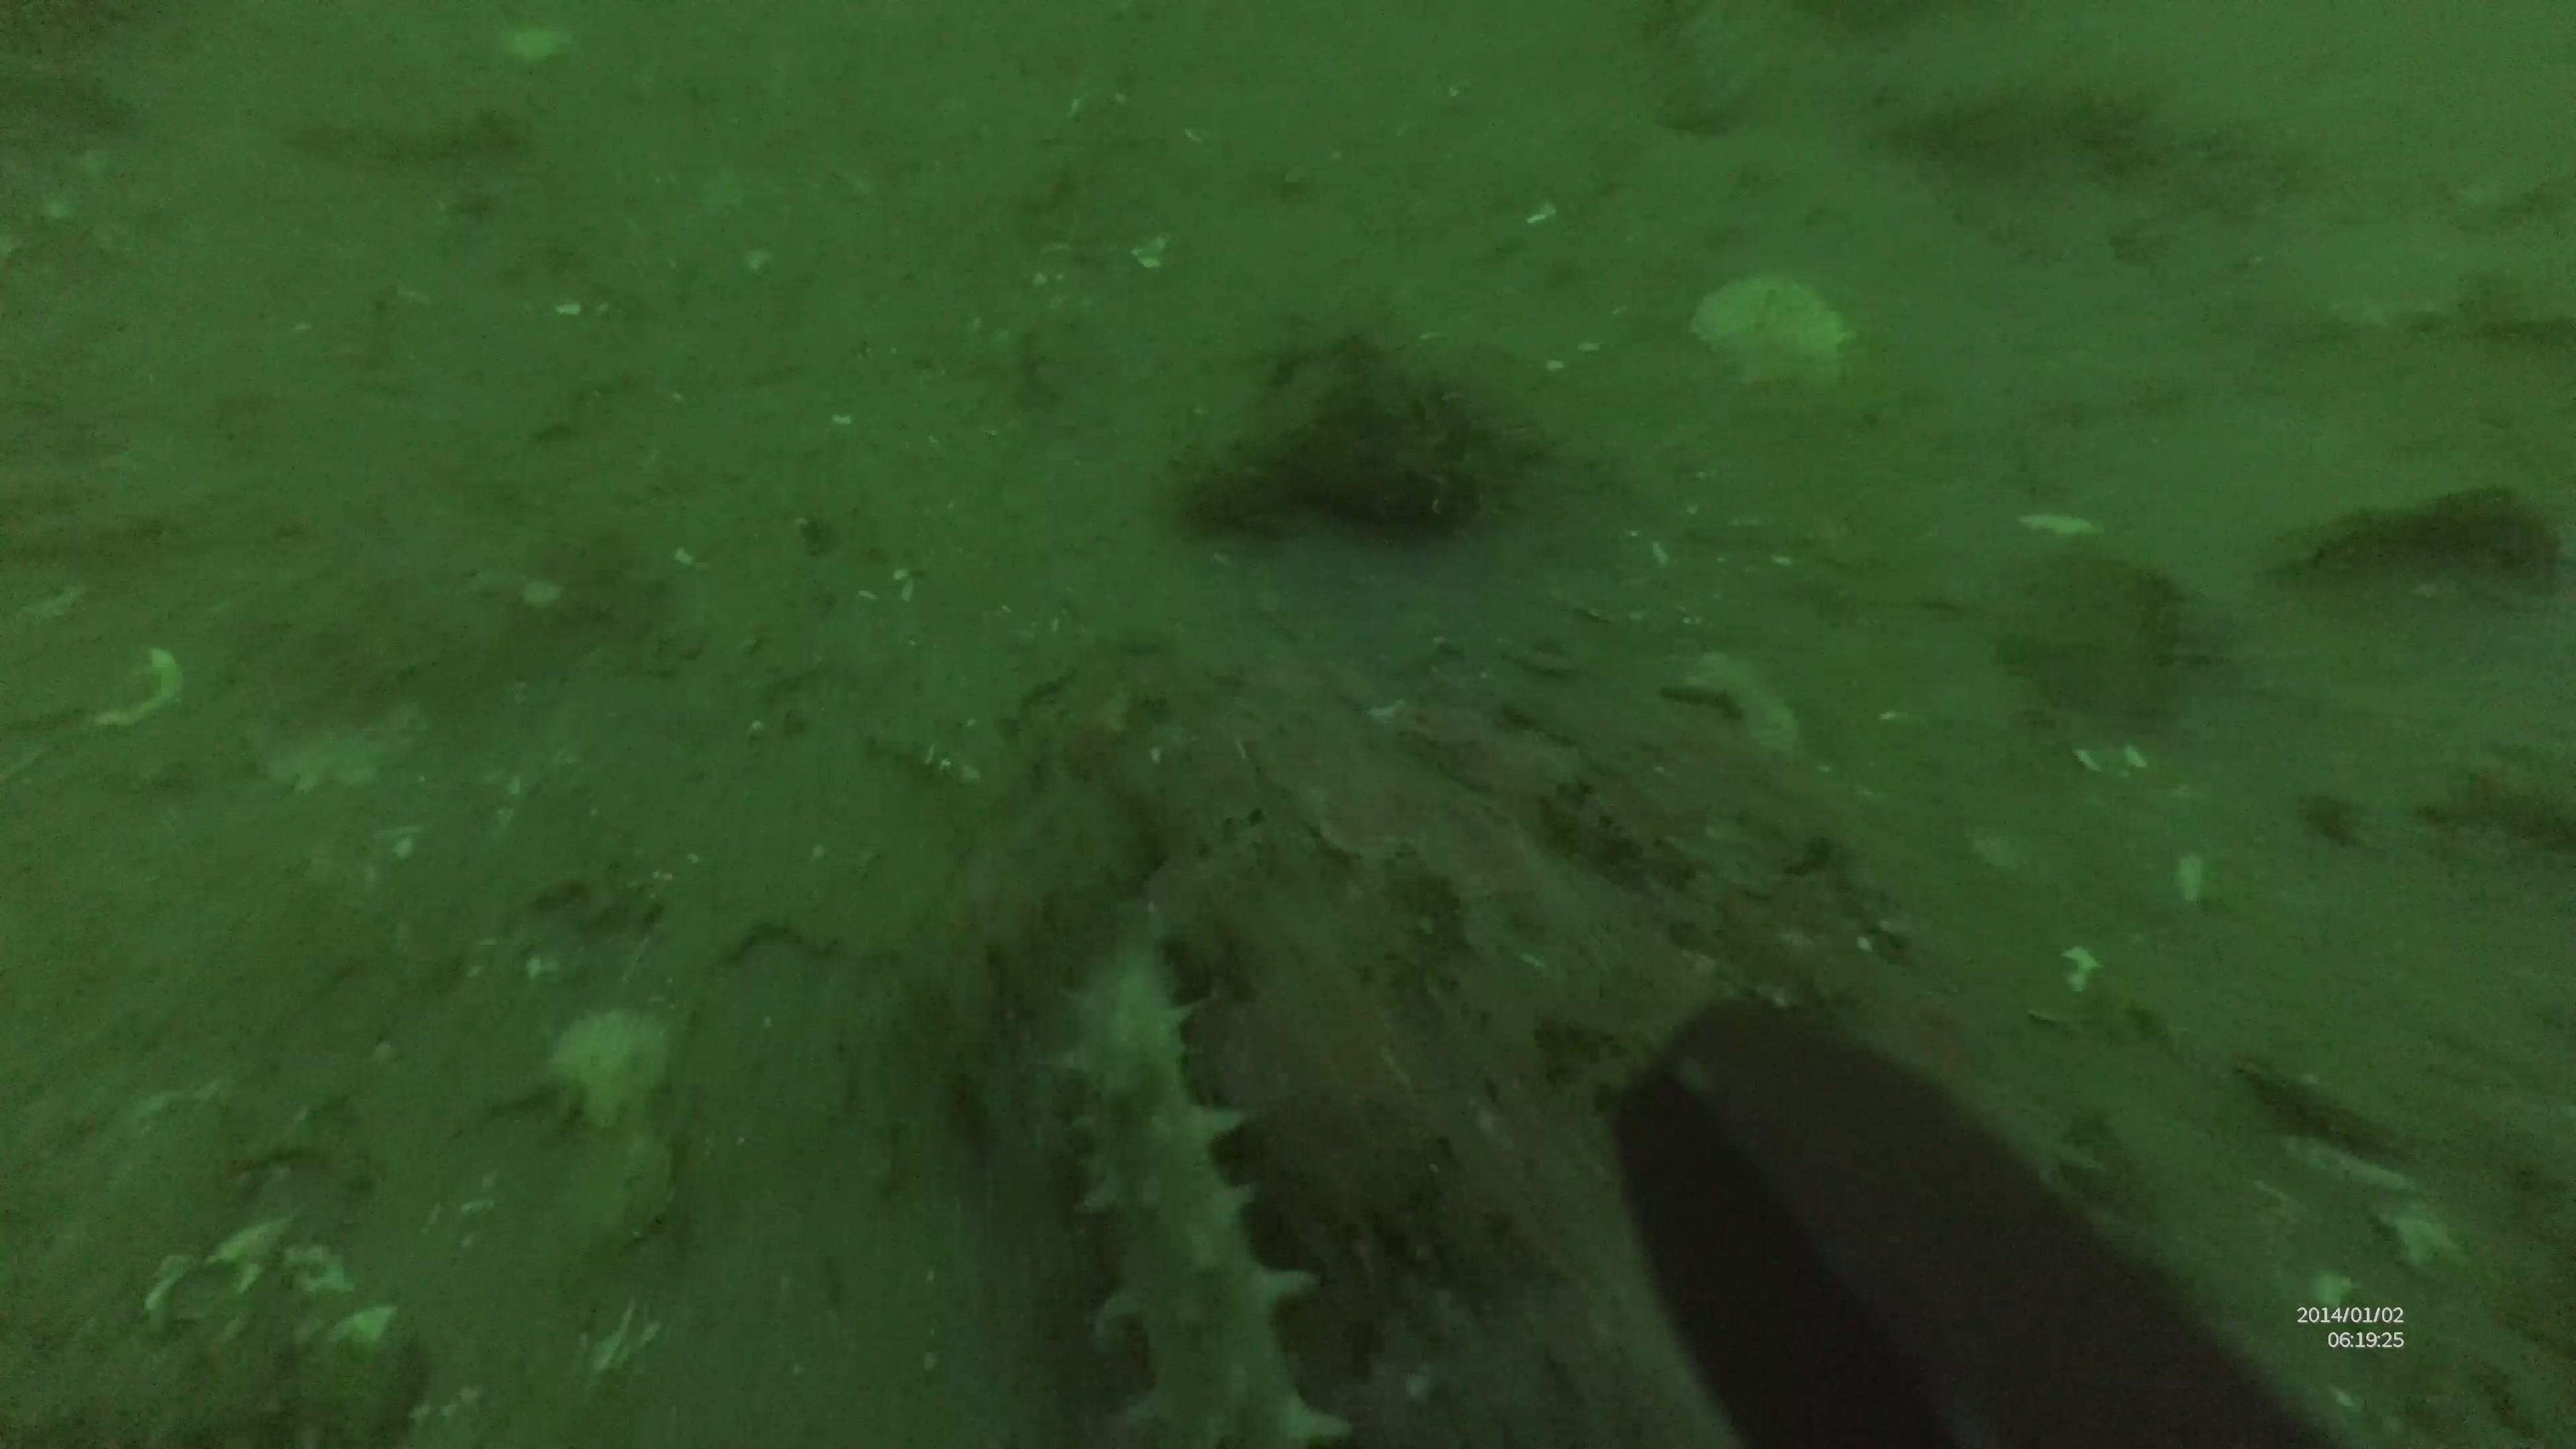holothurian: (1039, 931, 1366, 1449)
scallop: (1691, 278, 1863, 384), (547, 1136, 674, 1254), (543, 1001, 663, 1123), (1681, 649, 1792, 755), (2020, 495, 2116, 541)
